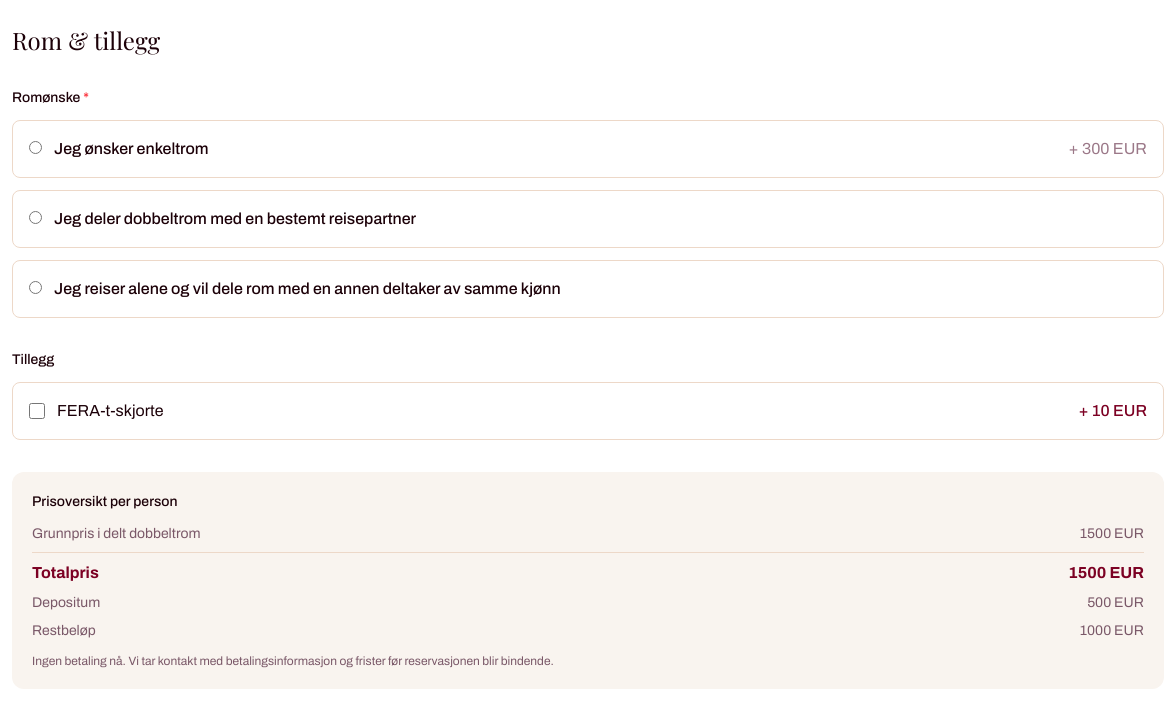
Test case: Step2RoomExtras › viser enkeltromstillegg, depositum og restbeløp
Click the radio button labelled "Jeg ønsker enkeltrom + 300 EUR".
click(36, 148)  # box [29, 141, 42, 154]
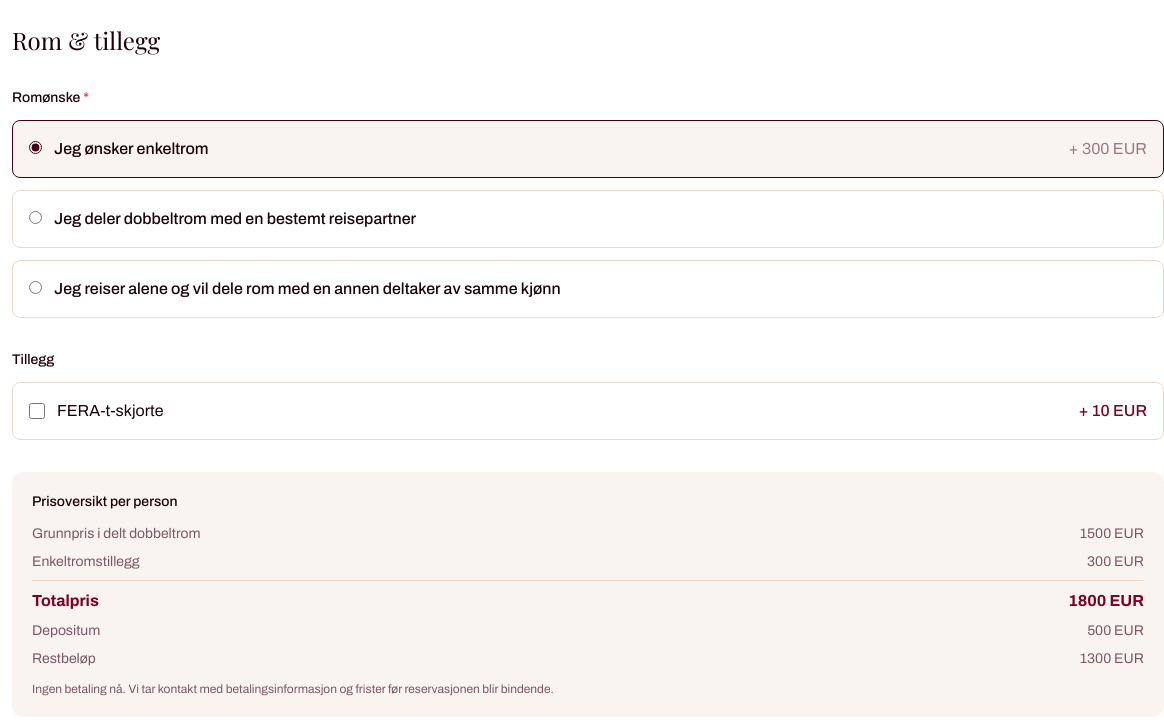
Now the text "Enkeltromstillegg" is shown, box [32, 552, 140, 572]
Now the text "1800 EUR" is shown, box [1068, 589, 1144, 613]
Now the text "1300 EUR" is shown, box [1080, 649, 1144, 669]
